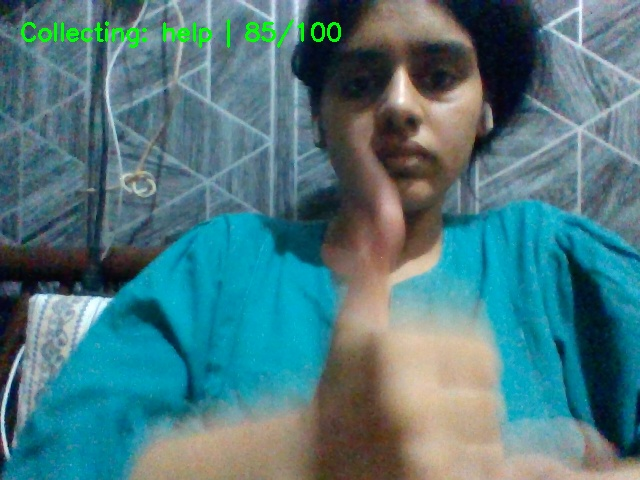help: (267, 197, 640, 480)
